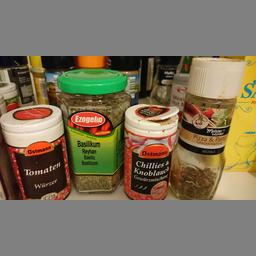spices: (170, 56, 244, 198), (56, 67, 128, 192), (0, 104, 71, 198), (121, 102, 178, 199)
